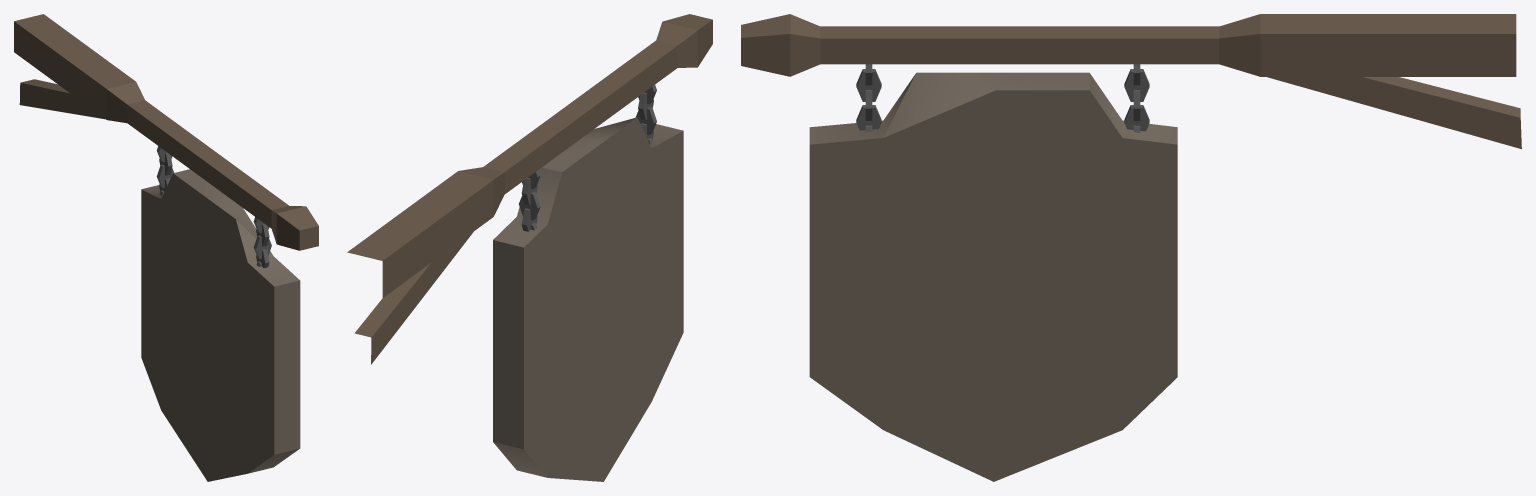
The model's file is SM_Prop_Sign_Attachment_03.glb.
3 renders of one model, left to right at view 1: azimuth 30°, elevation 25°; view 2: azimuth 150°, elevation 25°; view 3: azimuth 270°, elevation 25°, orthographic. The views are drawn at different scales.
Parts seen in each view (by area): view 1: SM_Prop_Sign_Attachment_03; view 2: SM_Prop_Sign_Attachment_03; view 3: SM_Prop_Sign_Attachment_03.
Part boxes in pixels (x1=…): SM_Prop_Sign_Attachment_03: x1=14, y1=14, x2=318, y2=481; SM_Prop_Sign_Attachment_03: x1=347, y1=14, x2=712, y2=481; SM_Prop_Sign_Attachment_03: x1=741, y1=14, x2=1521, y2=481.
Bounding box in the file's own units: 0.00134 × 0.0136 × 0.0215.
